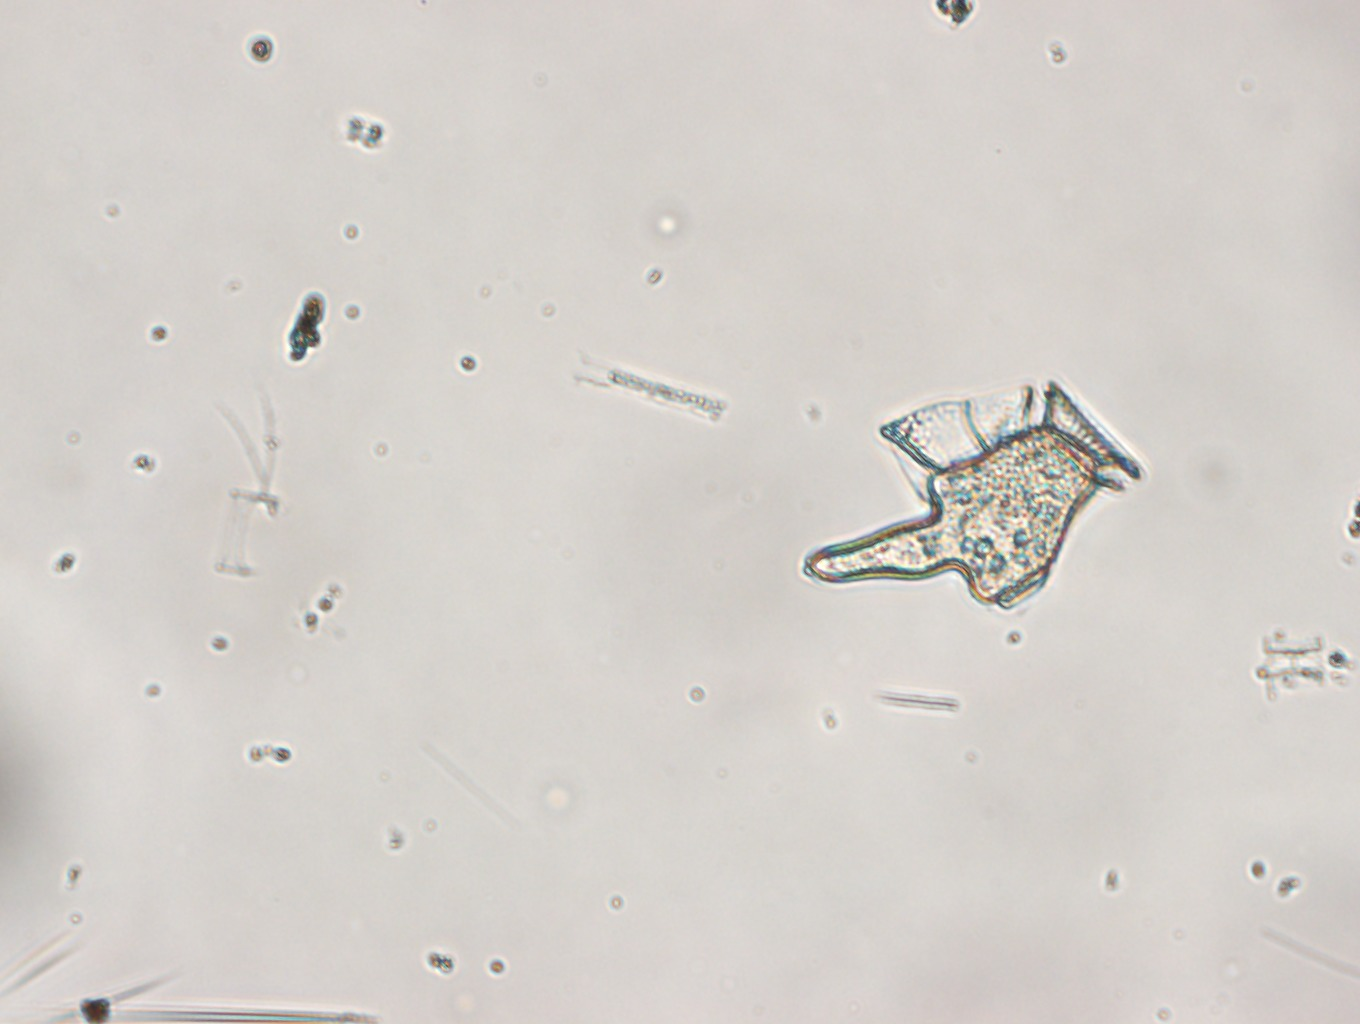dinophysis caudata: (798, 389, 1166, 612)
